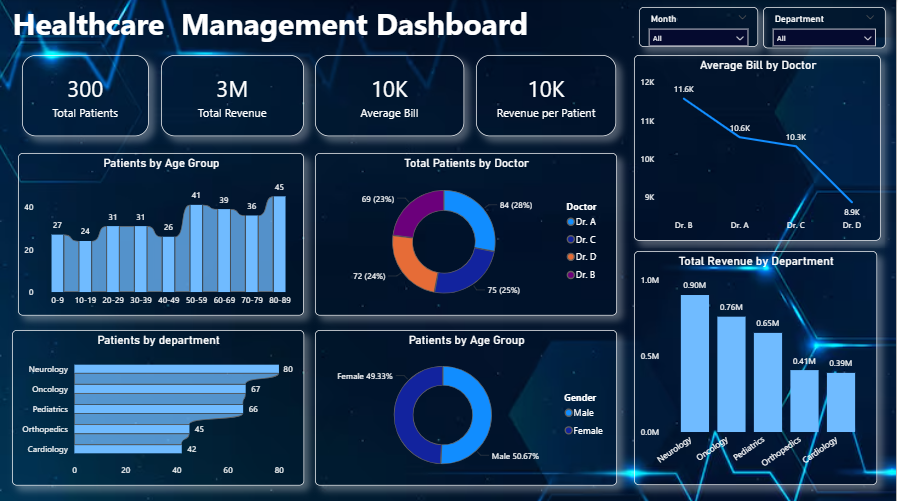

Layout of this report page (visuals, bound fields, positions):
{"tool":"powerbi","page":{"name":"Page 1","canvas":[1280,720],"ordinal":0},"visuals":[{"type":"columnChart","title":" Patients by Age Group","fields":{"Category":["Sheet1.Age Group"],"Y":["Sheet1.Total Patients"]},"box":[26.8,219.9,407.6,232.4],"z":0},{"type":"textbox","box":[0,0,774.1,80.4],"z":1},{"type":"slicer","fields":{"Values":["Sheet1.VisitDate.Variation.Date Hierarchy.Month"]},"box":[913.5,10.7,169.8,57.2],"z":2},{"type":"card","fields":{"Values":["Sheet1.Average Bill"]},"box":[450.5,80.4,212.7,116.2],"z":4},{"type":"card","fields":{"Values":["Sheet1.Total Revenue"]},"box":[230.6,80.4,203.8,116.2],"z":5},{"type":"card","fields":{"Values":["Sheet1.Total Patients"]},"box":[32.2,80.4,180.6,116.2],"z":6},{"type":"card","fields":{"Values":["Sheet1.Revenue per Patient"]},"box":[681.1,80.4,200.2,116.2],"z":7},{"type":"barChart","title":" Patients by department","fields":{"Category":["Sheet1.Department"],"Y":["Sheet1.Total Patients"]},"box":[17.9,472,416.5,221.7],"z":8},{"type":"donutChart","title":" Patients by Age Group","fields":{"Category":["Sheet1.Gender"],"Y":["Sheet1.Total Patients"]},"box":[450.5,472,430.8,221.7],"z":9},{"type":"clusteredColumnChart","fields":{"Category":["Sheet1.Department"],"Y":["Sheet1.Total Revenue"]},"box":[906.4,359.3,346.8,334.3],"z":11},{"type":"donutChart","fields":{"Category":["Sheet1.Doctor"],"Y":["Sheet1.Total Patients"]},"box":[450.5,219.9,430.8,232.4],"z":12},{"type":"slicer","fields":{"Values":["Sheet1.Department"]},"box":[1090.5,10.7,175.2,59],"z":13},{"type":"lineChart","fields":{"Category":["Sheet1.Doctor"],"Y":["Sheet1.Average Bill"]},"box":[906.4,80.4,352.2,264.6],"z":14}]}

Visuals, with their boxes in screenshot pixels (x1, y1, x2, y2), scaled from the page's 1280x720 canvas onto the 898x501 screenshot:
" Patients by Age Group" columnChart: bbox=[19, 153, 305, 315]
textbox: bbox=[0, 0, 543, 56]
slicer - Sheet1.VisitDate.Variation.Date Hierarchy.Month: bbox=[641, 7, 760, 47]
card - Sheet1.Average Bill: bbox=[316, 56, 465, 137]
card - Sheet1.Total Revenue: bbox=[162, 56, 305, 137]
card - Sheet1.Total Patients: bbox=[23, 56, 149, 137]
card - Sheet1.Revenue per Patient: bbox=[478, 56, 618, 137]
" Patients by department" barChart: bbox=[13, 328, 305, 483]
" Patients by Age Group" donutChart: bbox=[316, 328, 618, 483]
clusteredColumnChart - Sheet1.Department x Sheet1.Total Revenue: bbox=[636, 250, 879, 483]
donutChart - Sheet1.Doctor x Sheet1.Total Patients: bbox=[316, 153, 618, 315]
slicer - Sheet1.Department: bbox=[765, 7, 888, 48]
lineChart - Sheet1.Doctor x Sheet1.Average Bill: bbox=[636, 56, 883, 240]
